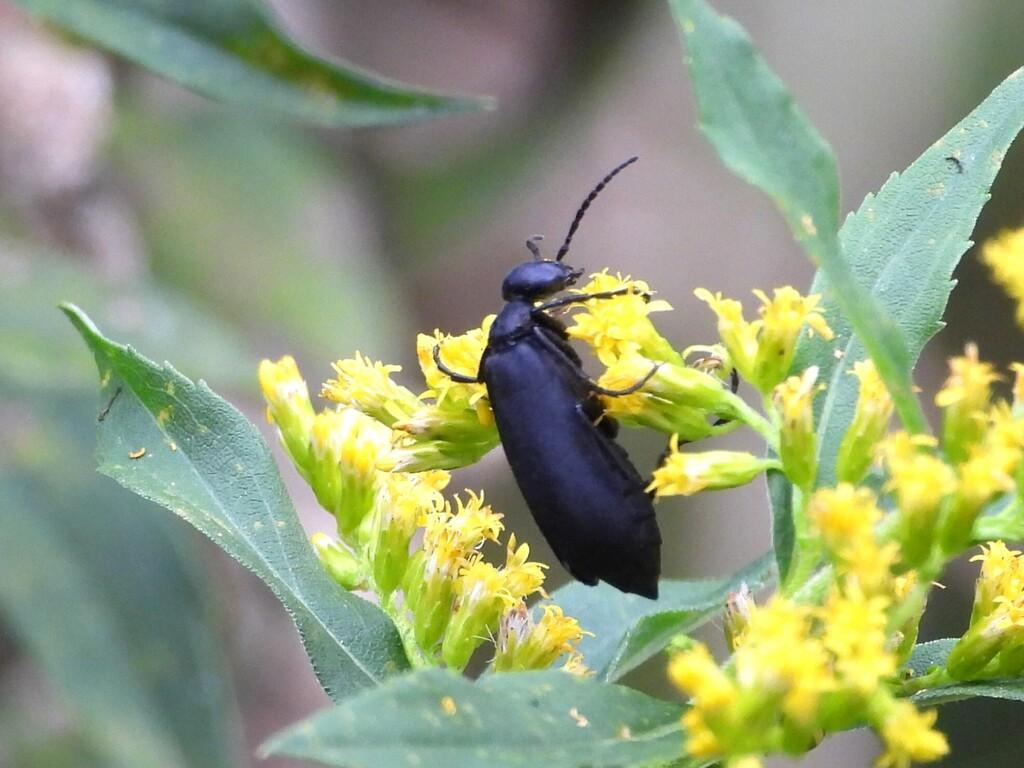blister_beetle: (383, 116, 778, 667)
